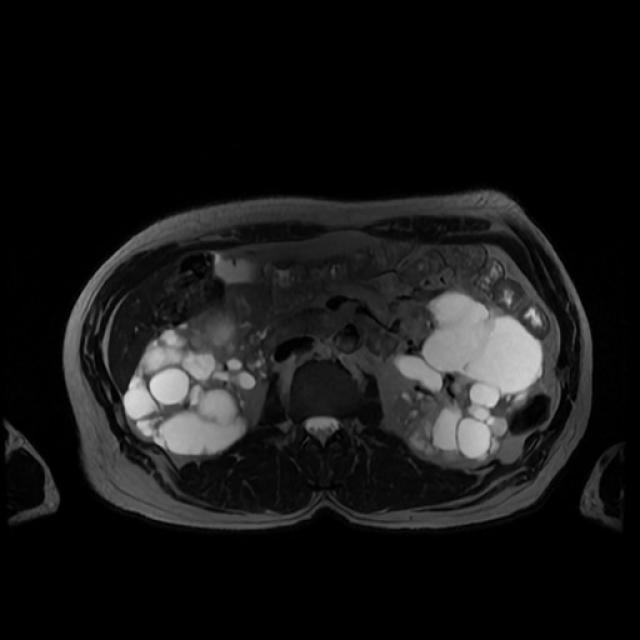sag: (126, 309, 266, 458)
sol: (398, 292, 545, 463)
